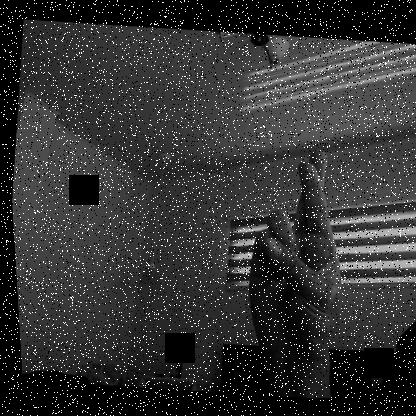R: (228, 141, 356, 370)
